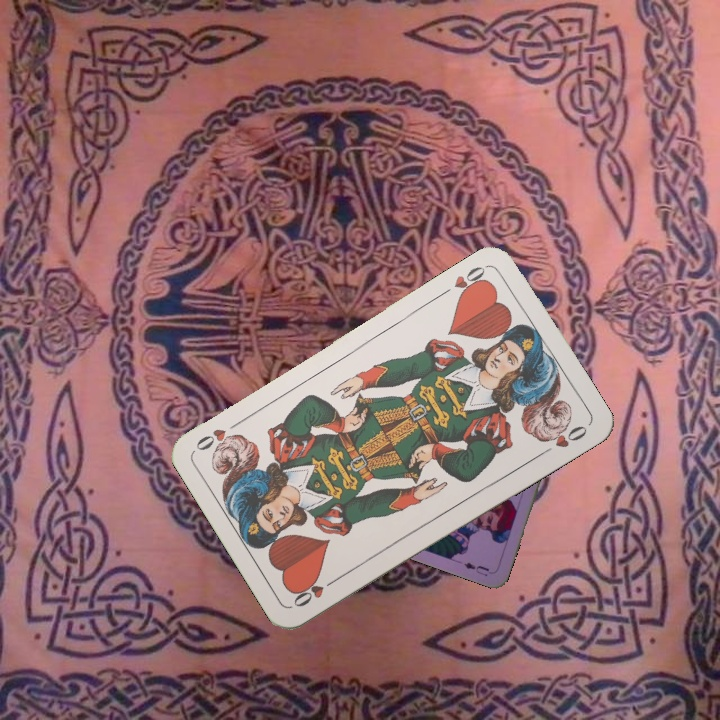HO: (289, 572, 342, 610), (449, 261, 491, 302)
